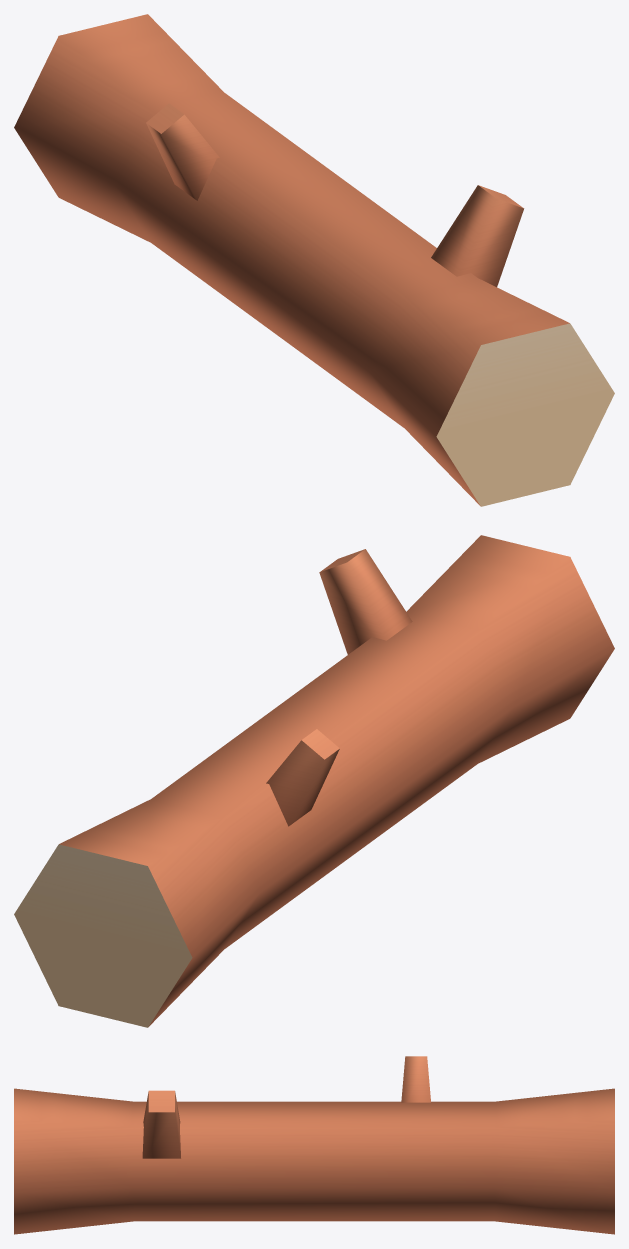
The model's file is tree-log.obj.
The picture shows the model from 3 angles, top to bottom: view 1: azimuth 30°, elevation 25°; view 2: azimuth 150°, elevation 25°; view 3: azimuth 270°, elevation 25°; orthographic projection. The views are drawn at different scales.
Visible parts, largest first — view 1: tree-log; view 2: tree-log; view 3: tree-log.
Boxes of the visible parts, x1,y1,x2,y2 form: tree-log: (14, 14, 614, 506); tree-log: (14, 535, 614, 1027); tree-log: (14, 1056, 614, 1234).
Size of the model in its own units: 0.2495 by 0.2771 by 1.
1 material, 1 textured.
